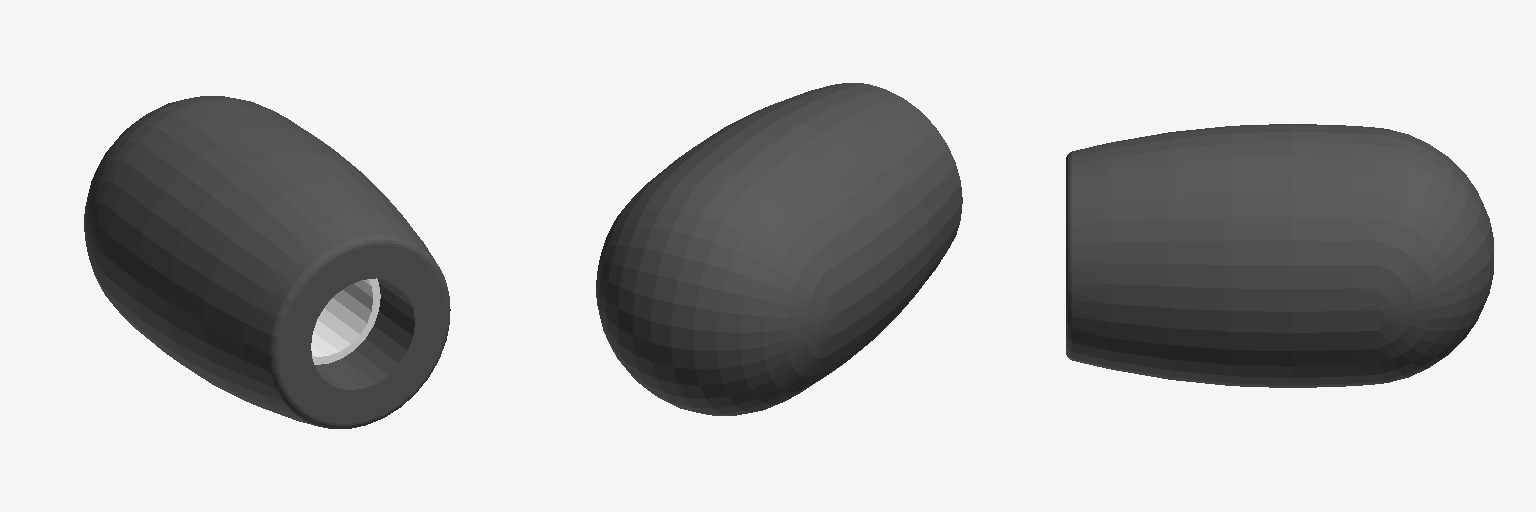
File: ganter_gn_719_1-15-b6.obj
The picture shows the model from 3 angles: view 1: azimuth 30°, elevation 25°; view 2: azimuth 150°, elevation 25°; view 3: azimuth 270°, elevation 25°; orthographic projection.
Visible parts, largest first — view 1: ganter_gn_719_1-15-b6_1; view 2: ganter_gn_719_1-15-b6_1; view 3: ganter_gn_719_1-15-b6_1.
Boxes of the visible parts, <box> form: ganter_gn_719_1-15-b6_1: <box>84,96,450,428</box>; ganter_gn_719_1-15-b6_1: <box>596,83,962,415</box>; ganter_gn_719_1-15-b6_1: <box>1066,124,1493,387</box>.
Bounding box in the file's own units: 15.41 × 15.35 × 24.94.